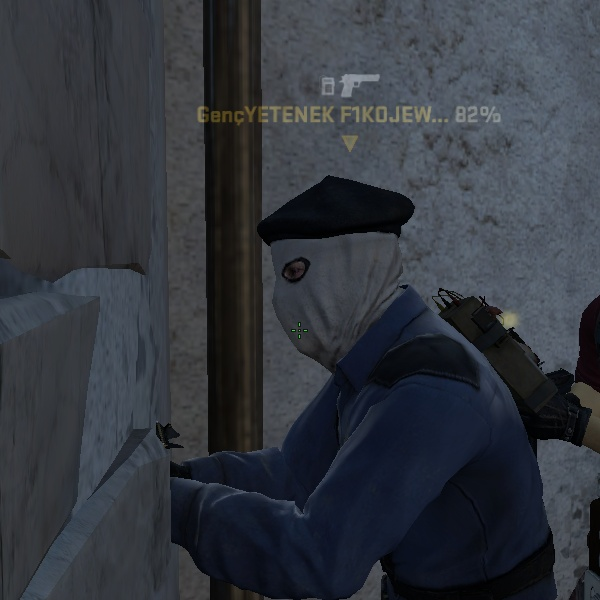ct_head: (258, 166, 421, 294)
